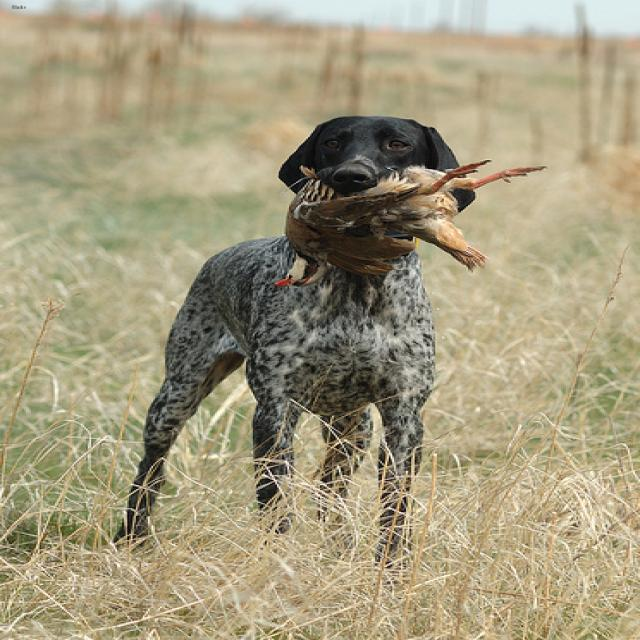dog-german_shorthaired: (267, 105, 487, 218)
